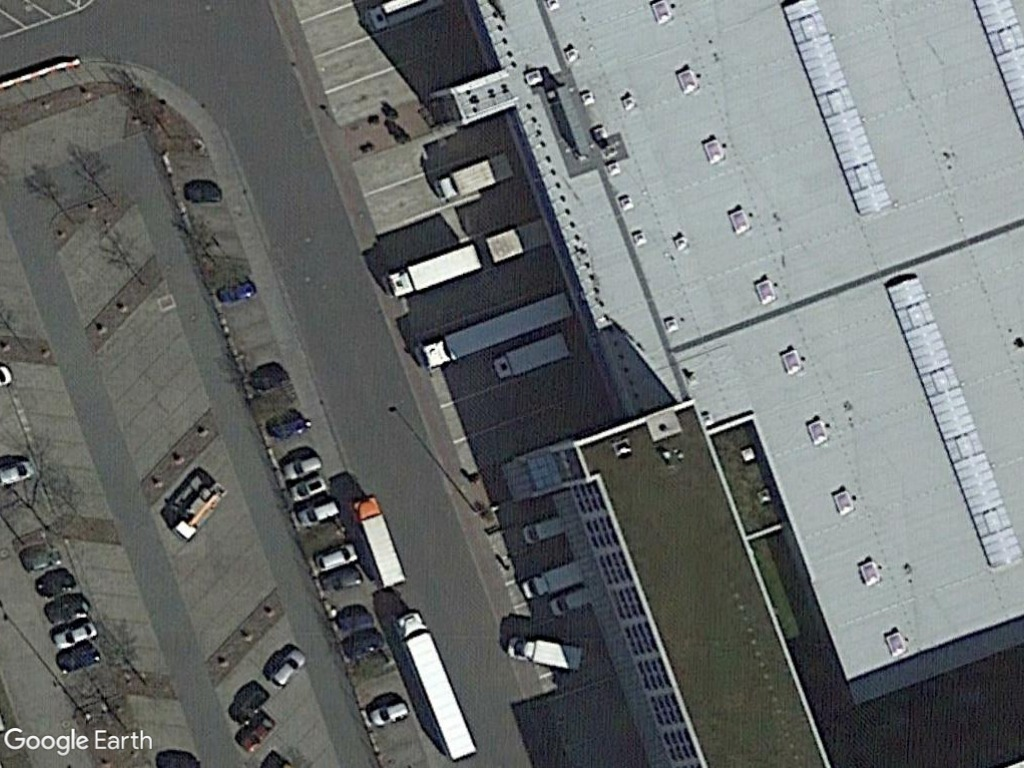car: (262, 647, 310, 704), (289, 493, 346, 536), (281, 470, 333, 515), (304, 541, 366, 578), (358, 700, 422, 734), (52, 616, 100, 658), (279, 448, 325, 486)
longvehicle: (389, 609, 481, 762)
truck: (373, 234, 490, 303), (473, 329, 590, 395), (492, 619, 594, 686), (351, 492, 405, 587), (429, 151, 512, 207)
